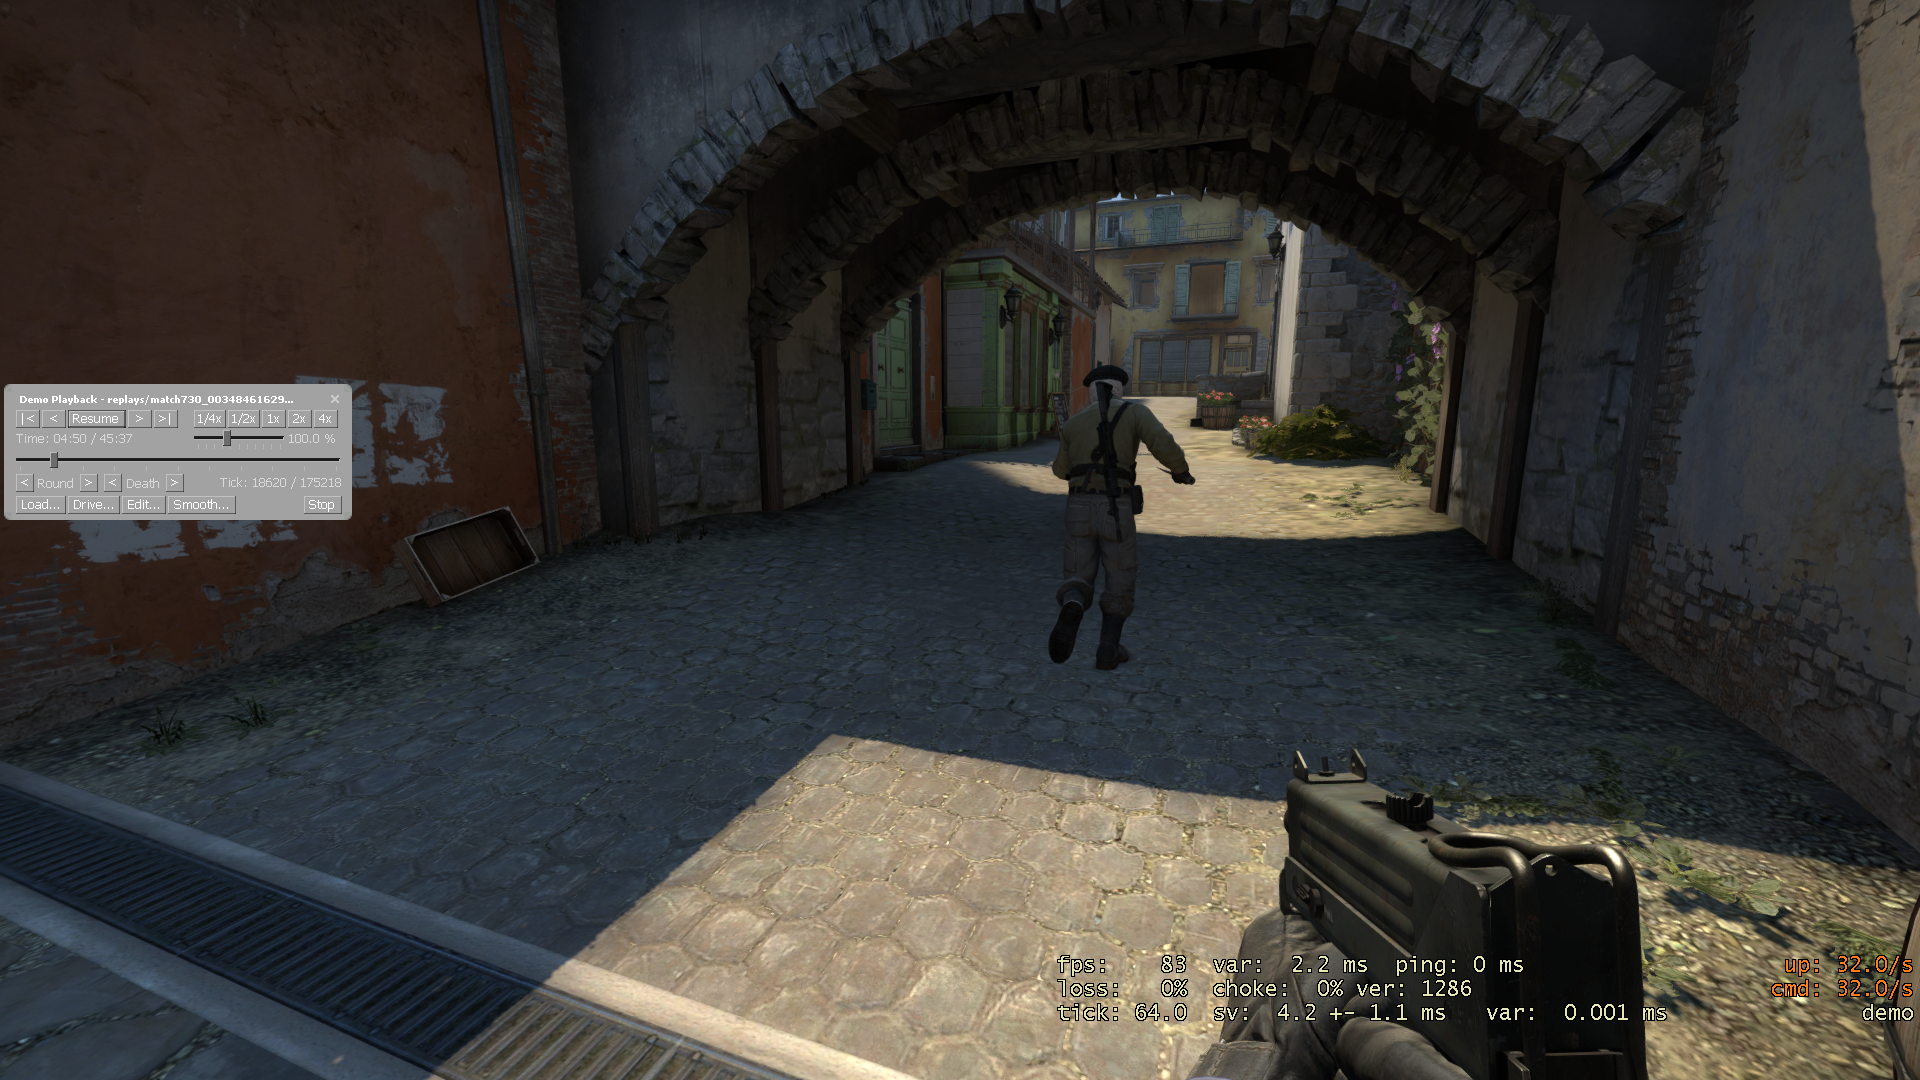t: (1048, 365, 1193, 667)
